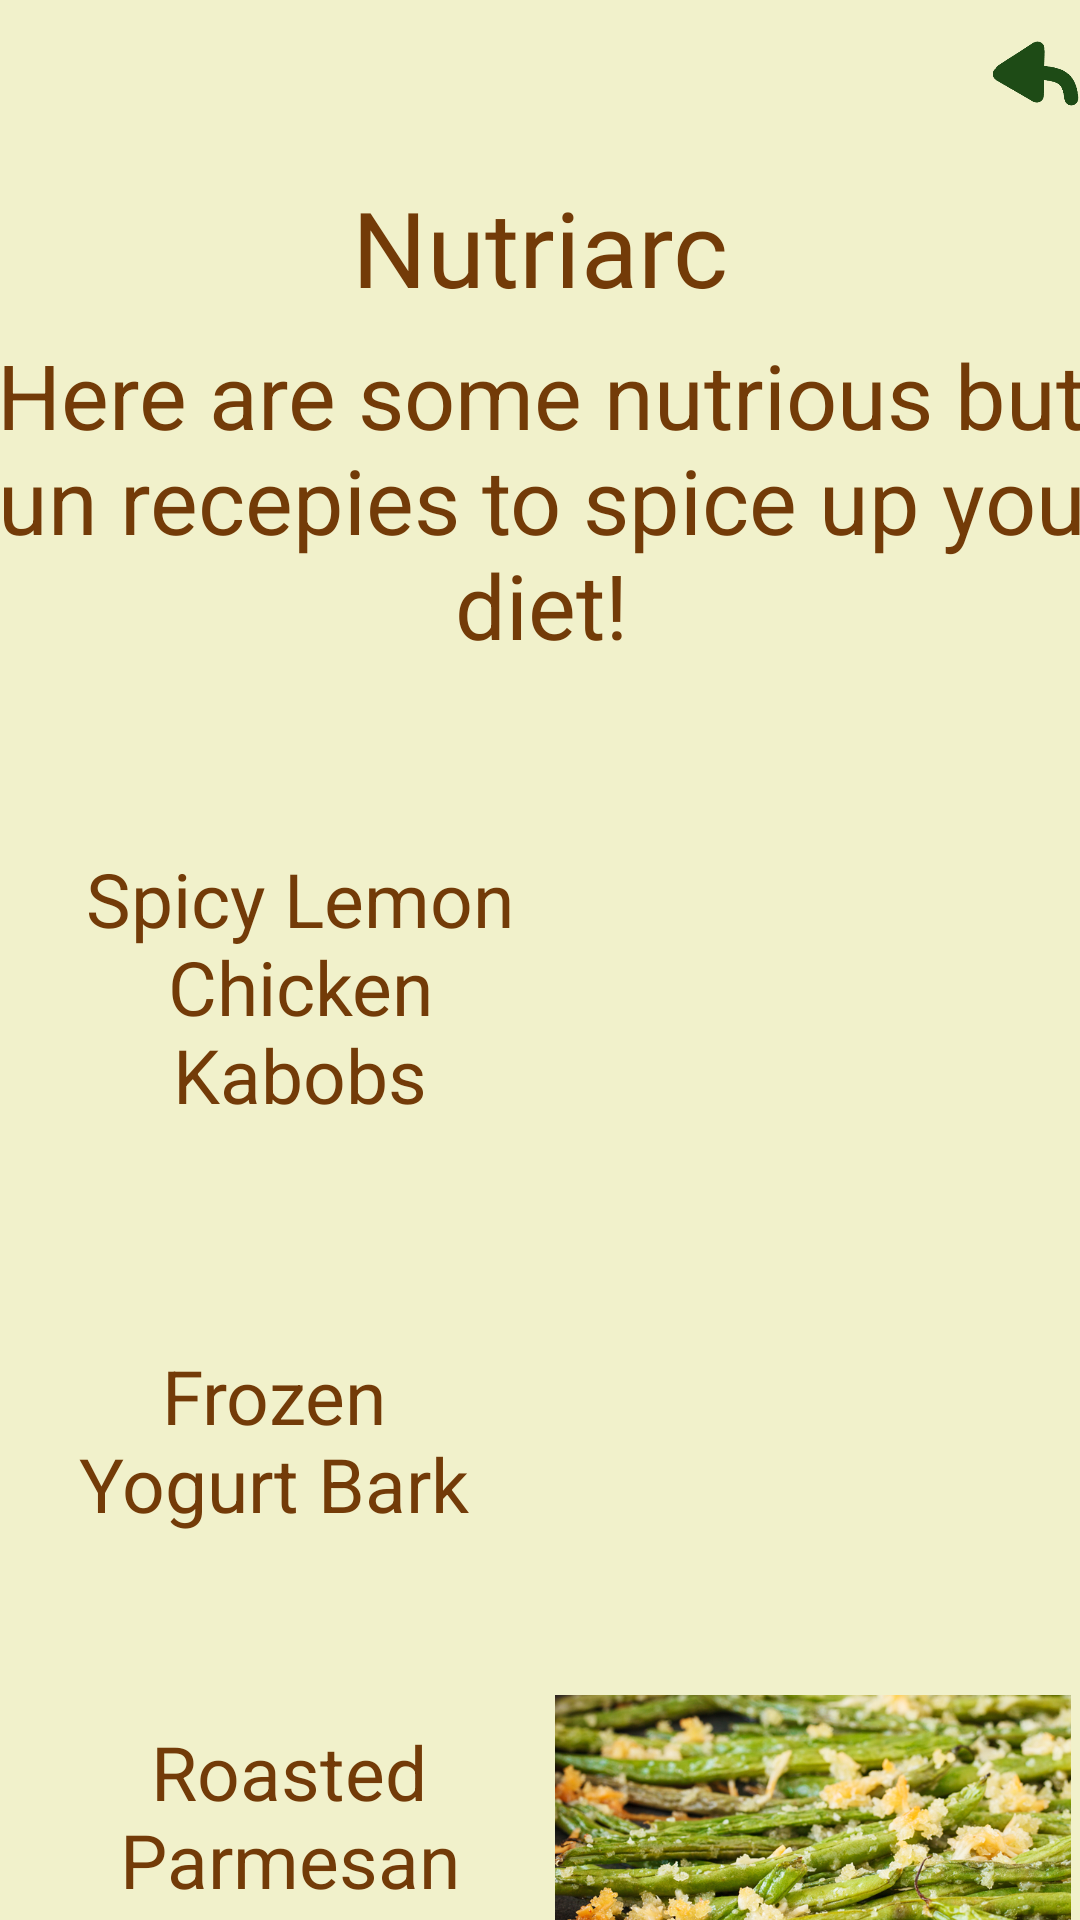

Named icons in this screenshot (1080 x 1920) and their bounding boxes, (x1,y1,x2,y2):
back arrow: (993,41,1079,106)
